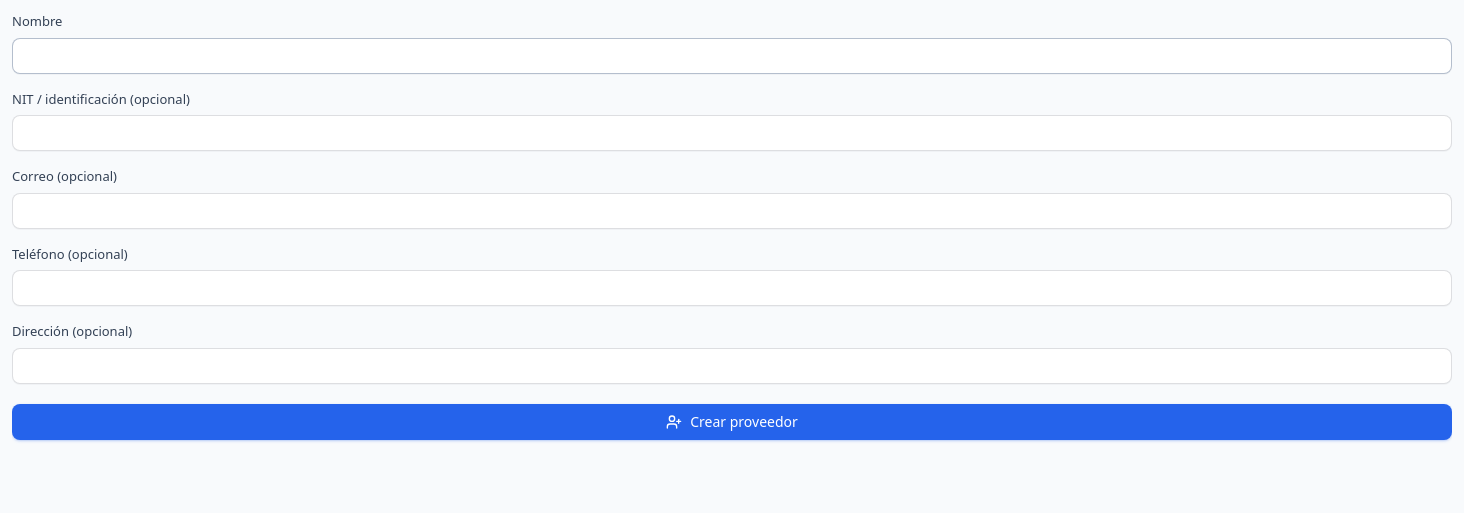
Test case: SupplierForm › shows a generic error message when saving fails with a non-API error
Type "Proveedor Nuevo" into the field labelled "Nombre" at point(732, 56), box [12,38,1452,74]
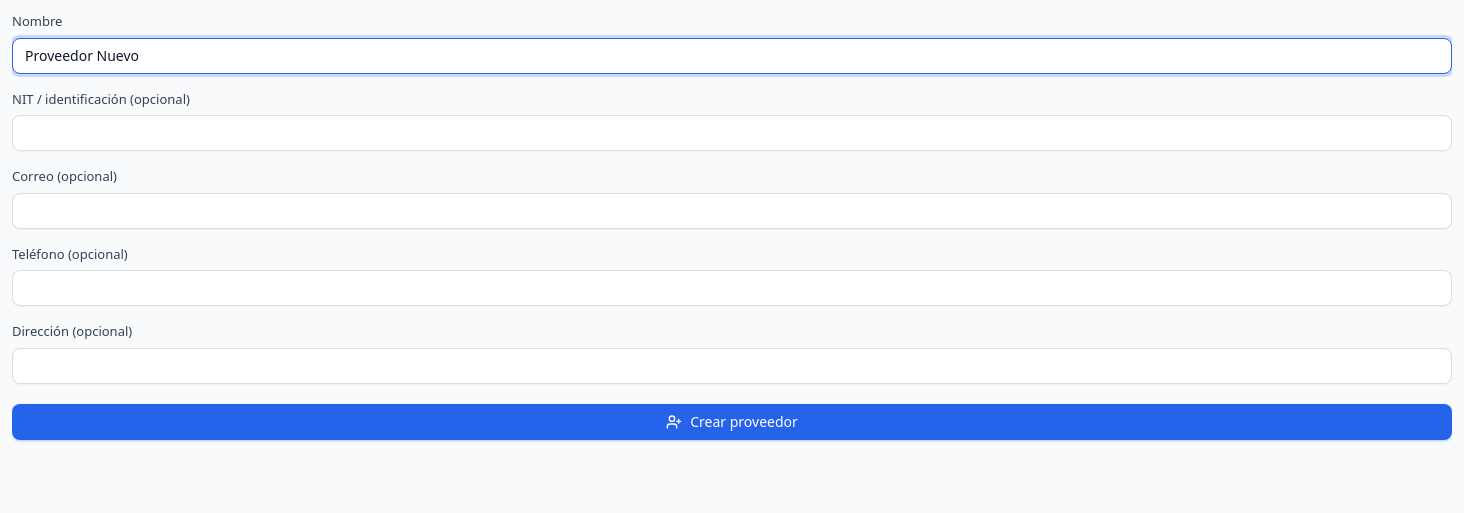
Click the button "Crear proveedor" at point(732, 422), box [12,404,1452,440]
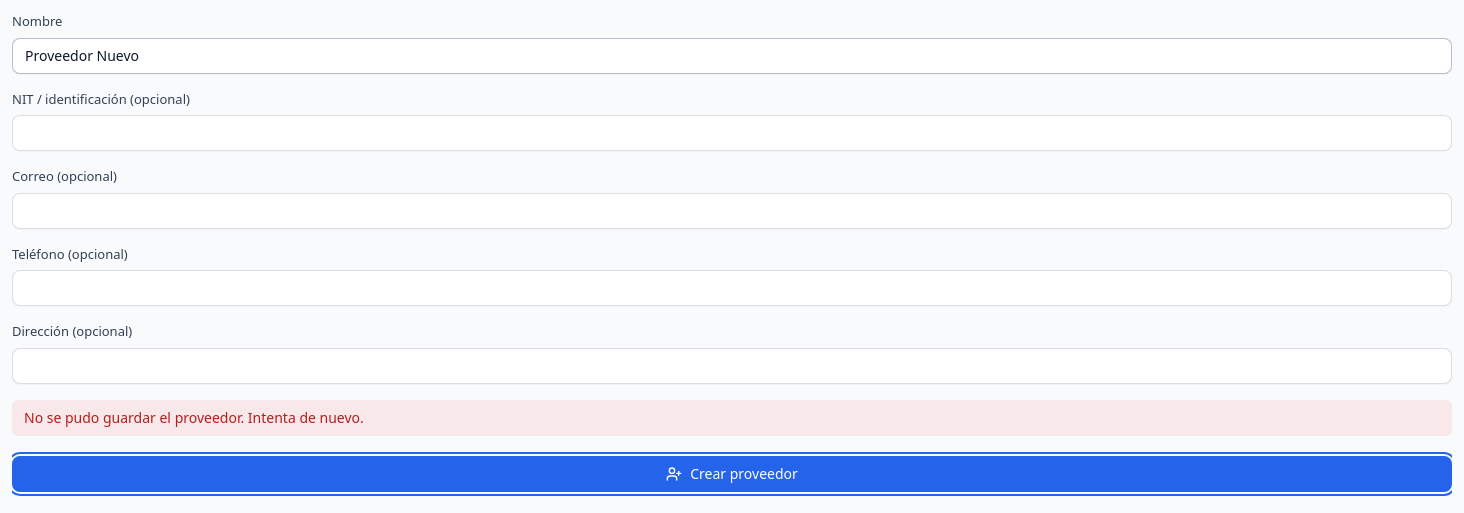
Check: the text "No se pudo guardar el proveedor. Intenta de nuevo." is shown, box [12,400,1452,436]
